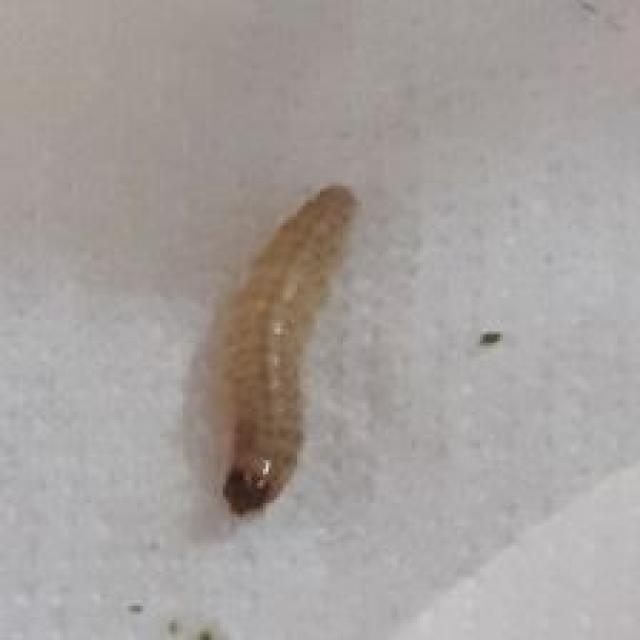white mucus: (162, 155, 440, 539)
